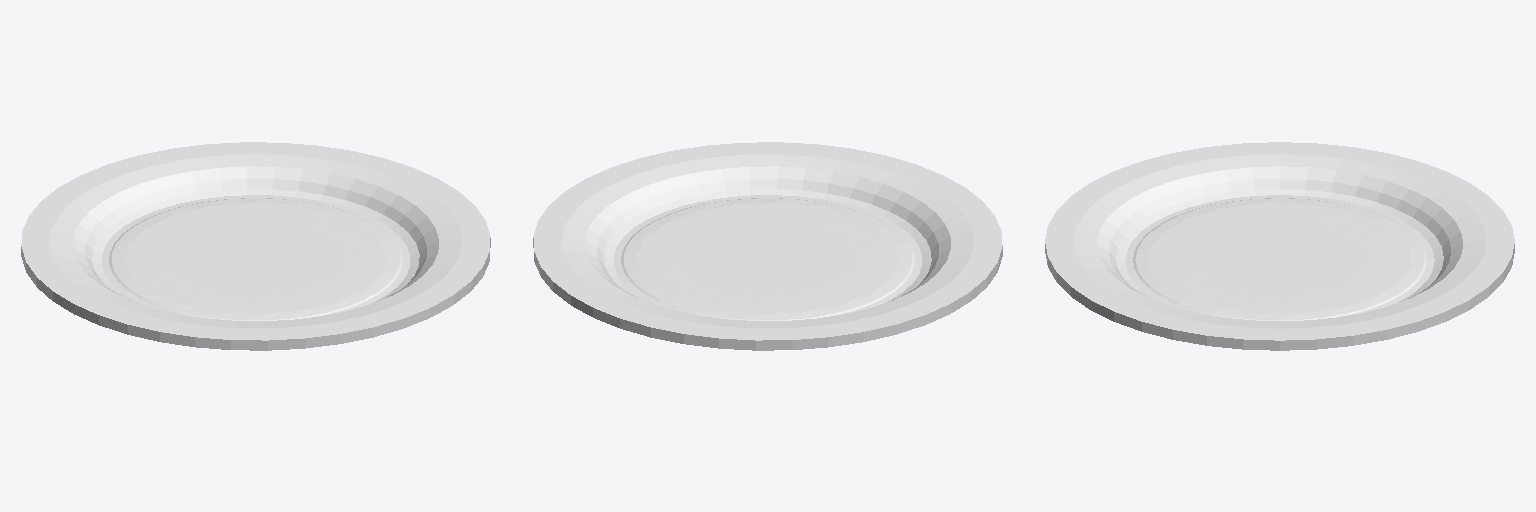
Rendered from Playe.obj.
3 views of the same model, side by side, from view 1: azimuth 30°, elevation 25°; view 2: azimuth 150°, elevation 25°; view 3: azimuth 270°, elevation 25° (orthographic).
Visible parts, largest first — view 1: pCylinder1; view 2: pCylinder1; view 3: pCylinder1.
Boxes of the visible parts, x1,y1,x2,y2 form: pCylinder1: [21, 142, 490, 350]; pCylinder1: [533, 142, 1002, 350]; pCylinder1: [1045, 142, 1514, 350].
Size of the model in its own units: 1.53 by 0.1051 by 1.53.